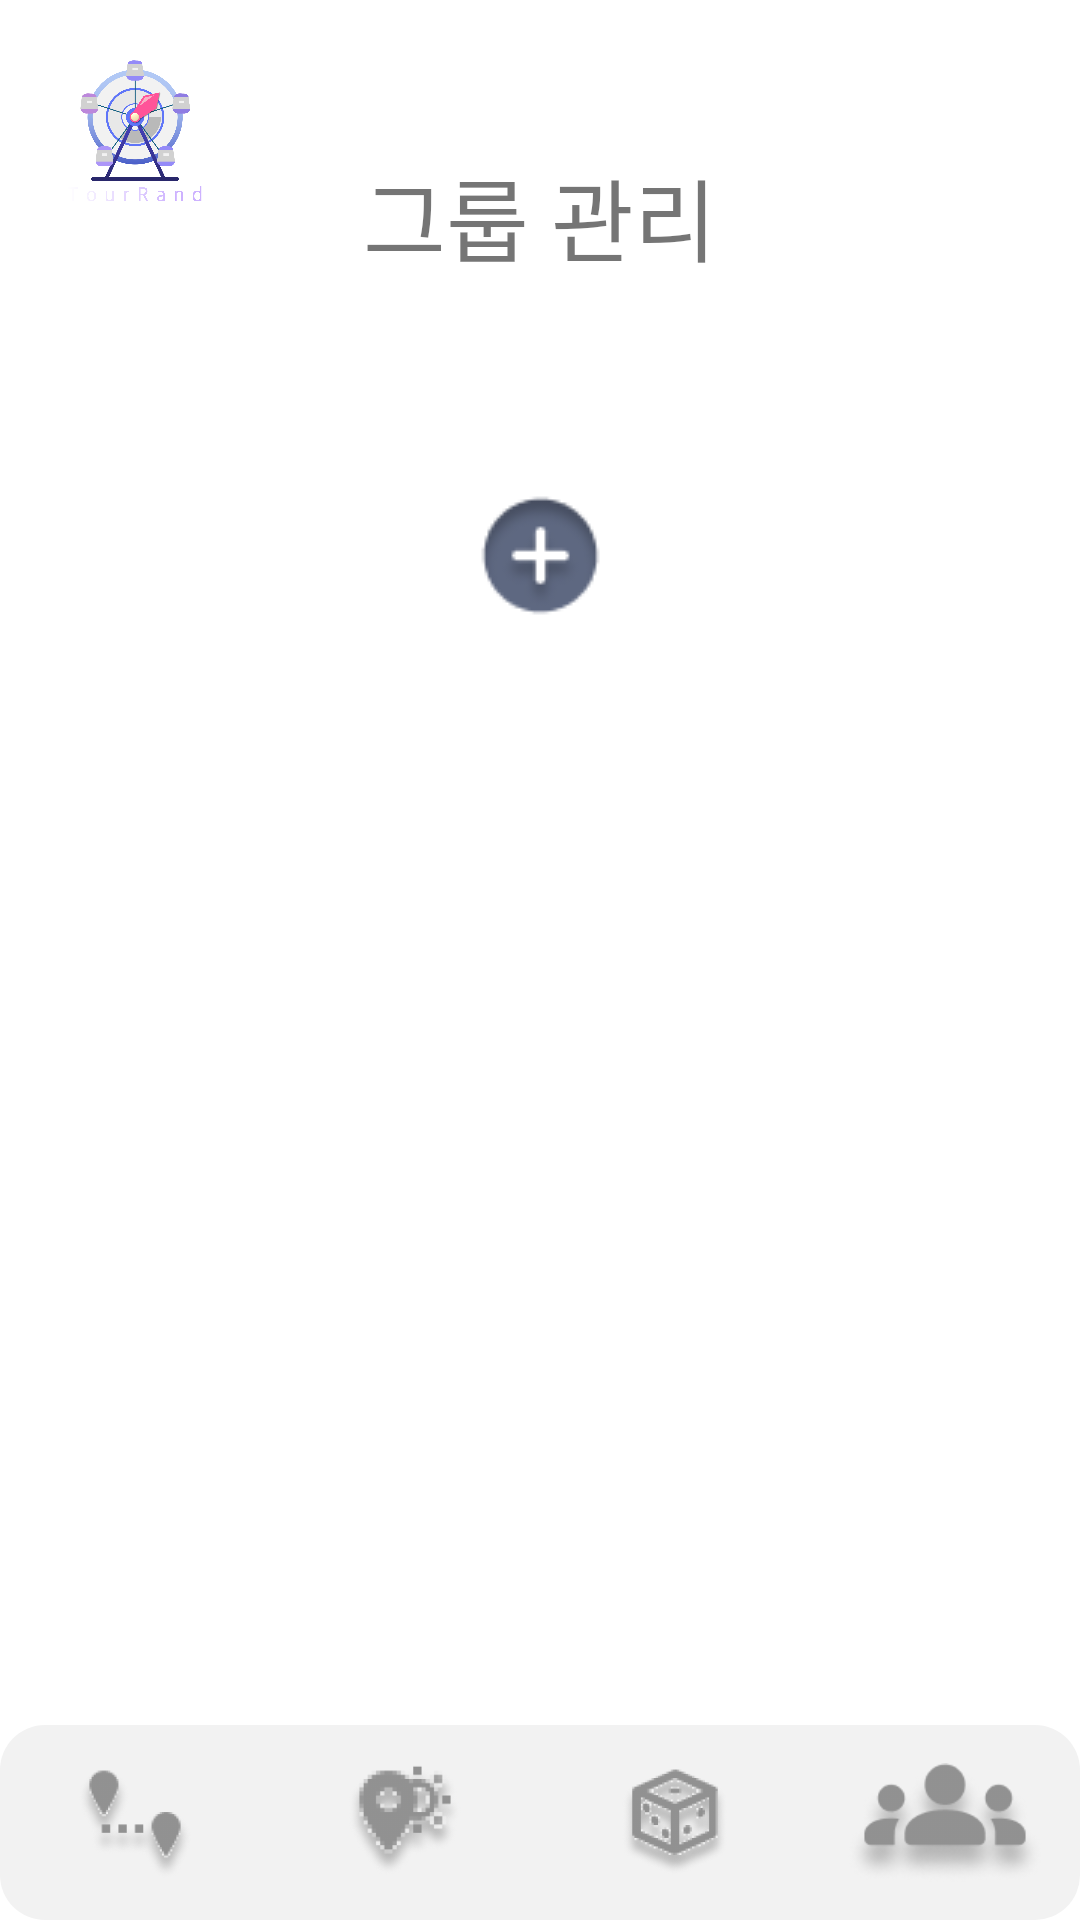

Point at icon controls on the screen. Image size 1080px x 1920px, points as (x,y).
group off: (945,1814)
plusbtn: (540,555)
random off: (675,1817)
weather off: (404,1815)
